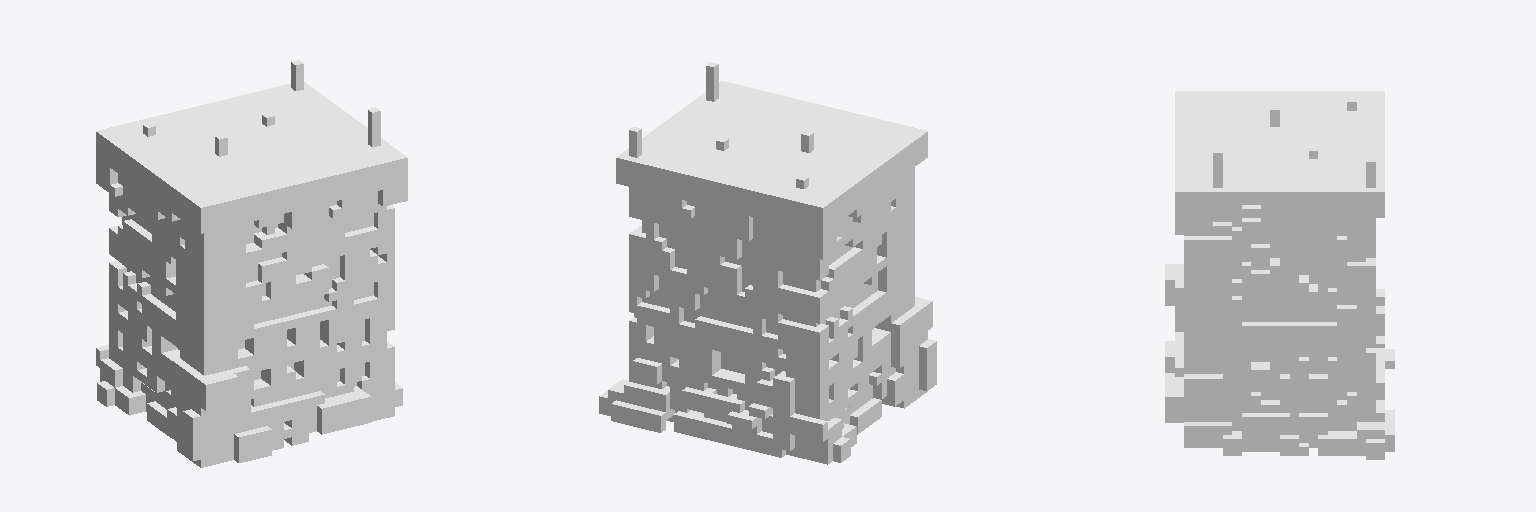
Rendered from Grn3.obj.
3 renders of one model, left to right at view 1: azimuth 30°, elevation 25°; view 2: azimuth 150°, elevation 25°; view 3: azimuth 270°, elevation 25°, orthographic.
Visible parts, largest first — view 1: Grn3; view 2: Grn3; view 3: Grn3.
Boxes of the visible parts, x1,y1,x2,y2 form: Grn3: [96, 60, 407, 467]; Grn3: [599, 62, 936, 464]; Grn3: [1165, 91, 1394, 459].
Size of the model in its own units: 28 by 34 by 24.